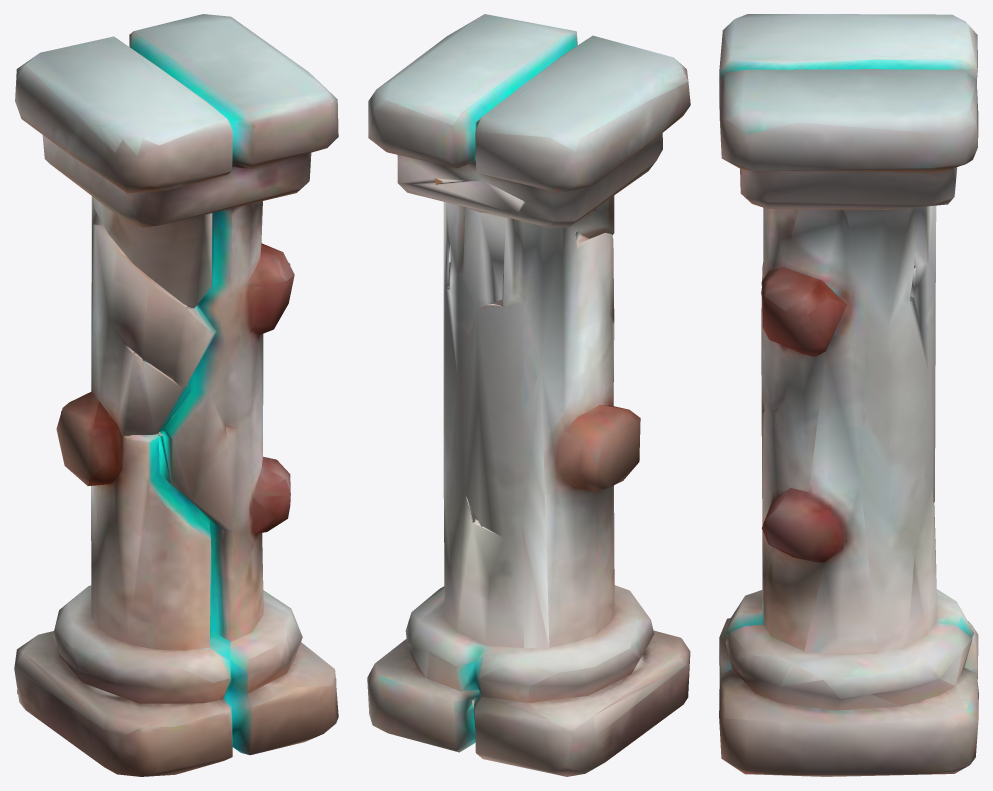
File: lg-moon-ruin-column.glb
The picture shows the model from 3 angles, left to right: view 1: azimuth 30°, elevation 25°; view 2: azimuth 150°, elevation 25°; view 3: azimuth 270°, elevation 25°; orthographic projection. The views are drawn at different scales.
Visible parts, largest first — view 1: geometry_0; view 2: geometry_0; view 3: geometry_0.
Part boxes in pixels (<box>): geometry_0: <box>14,14,338,776</box>; geometry_0: <box>367,14,690,776</box>; geometry_0: <box>719,14,978,776</box>.
Bounding box in the file's own units: 0.3766 × 1 × 0.3558.
1 material, 1 textured.
